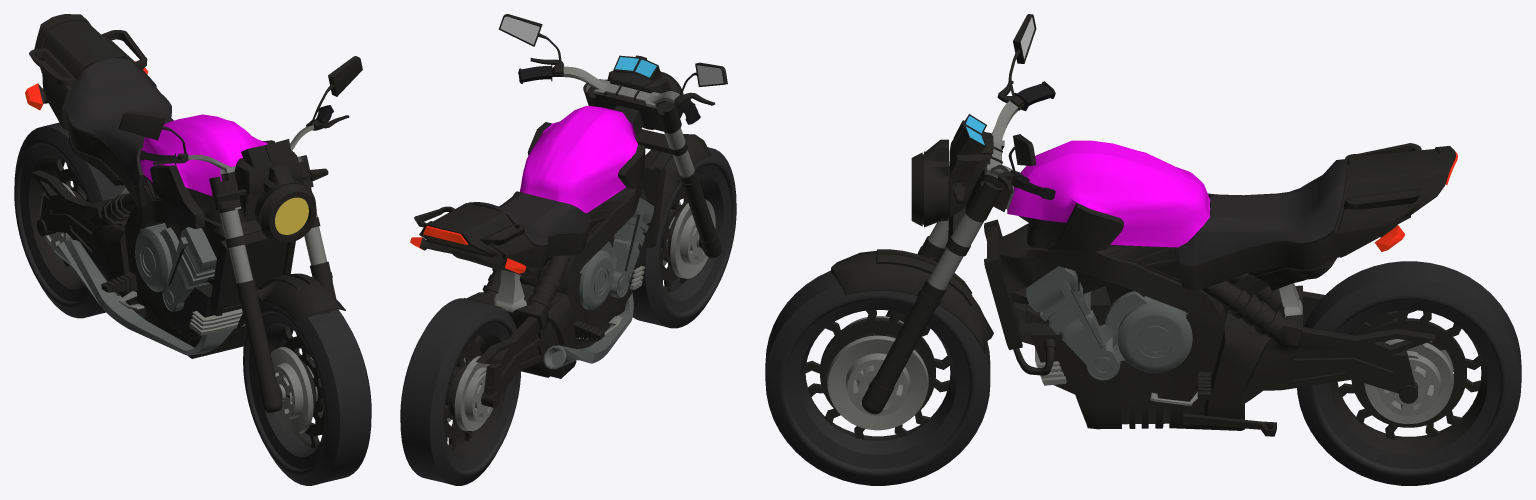
The model's file is naked.glb.
3 renders of one model, left to right at view 1: azimuth 30°, elevation 25°; view 2: azimuth 150°, elevation 25°; view 3: azimuth 270°, elevation 25°, orthographic. The views are drawn at different scales.
Parts seen in each view (by area): view 1: Body, FontWheel, Plane.004, RearWheel; view 2: Body, RearWheel, Plane.004, FontWheel; view 3: Body, RearWheel, FontWheel, Plane.004.
Part boxes in pixels (x1,y1,x2,y2): Body: [25, 14, 328, 358]; FontWheel: [243, 300, 371, 485]; Plane.004: [119, 56, 362, 412]; RearWheel: [14, 122, 119, 318]; Body: [410, 55, 695, 408]; RearWheel: [400, 298, 521, 485]; Plane.004: [498, 14, 727, 257]; FontWheel: [632, 147, 736, 328]; Body: [911, 114, 1457, 436]; RearWheel: [1297, 261, 1521, 485]; FontWheel: [765, 270, 990, 485]; Plane.004: [831, 14, 1055, 414].
Bounding box in the file's own units: 1.16 × 1.57 × 2.7.
